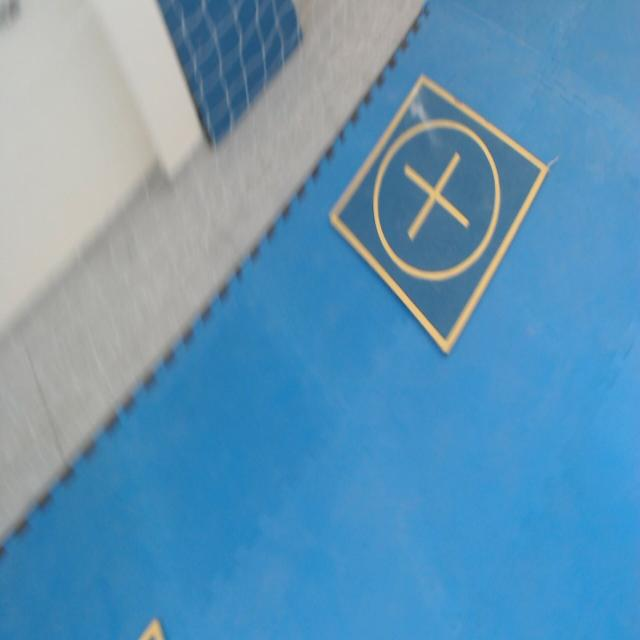base_pouso: (327, 70, 551, 358)
